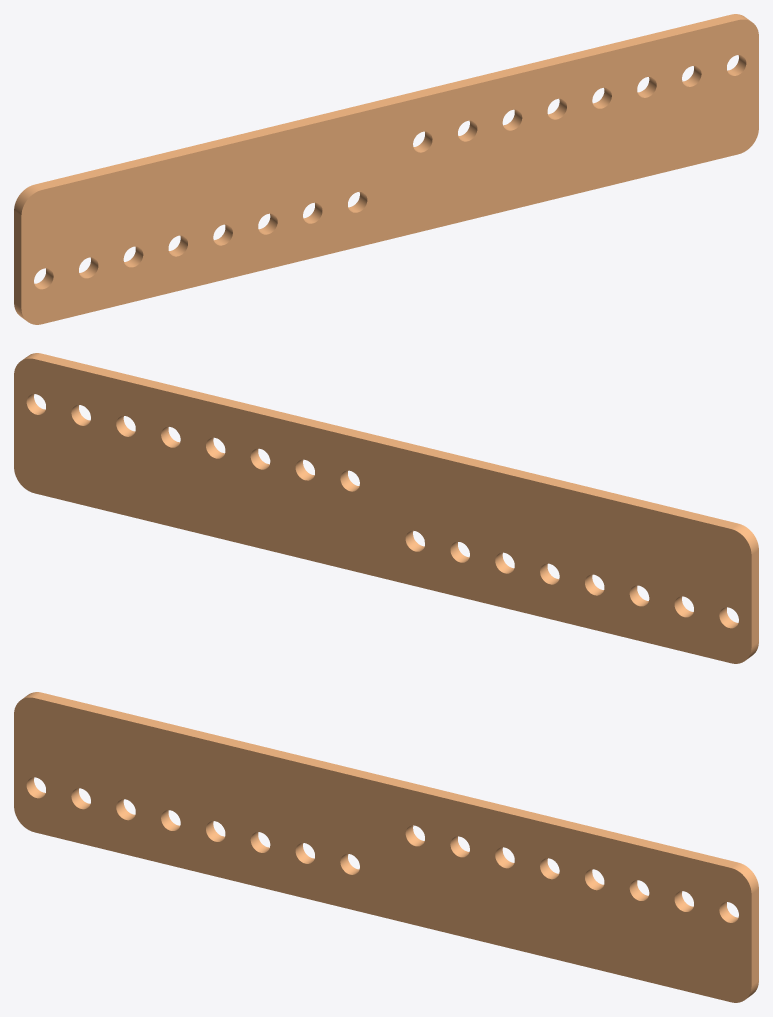
The model's file is BATTERY MODULE V1__BUSBAR 16A.glb.
The picture shows the model from 3 angles, top to bottom: view 1: azimuth 30°, elevation 25°; view 2: azimuth 150°, elevation 25°; view 3: azimuth 330°, elevation 25°; orthographic projection.
Parts seen in each view (by area): view 1: BUSBAR 16A; view 2: BUSBAR 16A; view 3: BUSBAR 16A.
Part boxes in pixels (left/top/right/bottom): BUSBAR 16A: left=14, top=14, right=758, bottom=324; BUSBAR 16A: left=14, top=353, right=758, bottom=663; BUSBAR 16A: left=14, top=692, right=758, bottom=1002.
Bounding box in the file's own units: 0.2299 × 0.04 × 0.004.
